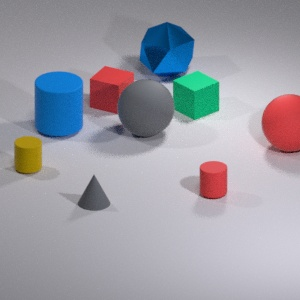lapphuong: (173, 66, 221, 121), (88, 65, 131, 117)
lucgiac: (140, 21, 195, 78)
non: (77, 172, 115, 217)
tron: (119, 75, 180, 141), (261, 89, 300, 159)
tru: (31, 71, 84, 139), (195, 156, 229, 209), (10, 131, 47, 178)
